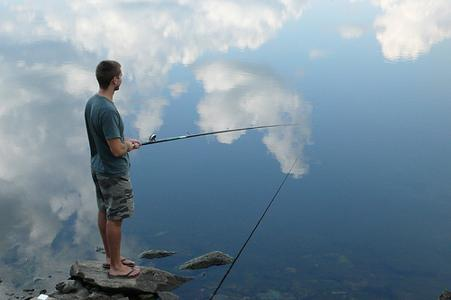person: (85, 60, 142, 278)
